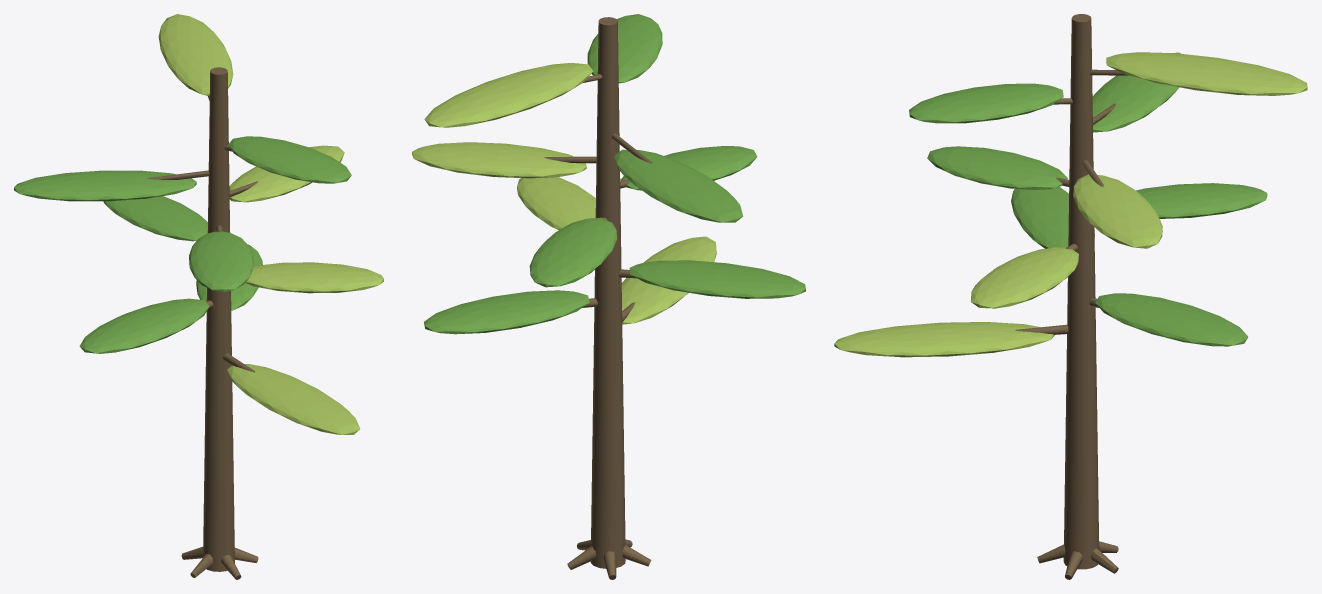
File: tall-prehistoric-palm.glb
The picture shows the model from 3 angles, left to right: view 1: azimuth 30°, elevation 25°; view 2: azimuth 150°, elevation 25°; view 3: azimuth 270°, elevation 25°; orthographic projection. The views are drawn at different scales.
Visible parts, largest first — view 1: trunk, foliage-0, foliage-7, foliage-2, foliage-9, foliage-8, foliage-3, foliage-5, foliage-4, foliage-6, foliage-1; view 2: trunk, foliage-9, foliage-7, foliage-2, foliage-1, foliage-6, foliage-4, foliage-0, foliage-3, foliage-8, foliage-5; view 3: trunk, foliage-0, foliage-9, foliage-1, foliage-8, foliage-6, foliage-3, foliage-5, foliage-4, foliage-7, foliage-2.
Part boxes in pixels (bbox=[...]): trunk: bbox=[203, 67, 234, 571]; foliage-0: bbox=[227, 364, 360, 434]; foliage-7: bbox=[14, 170, 196, 201]; foliage-2: bbox=[79, 298, 209, 353]; foliage-9: bbox=[158, 14, 233, 95]; foliage-8: bbox=[228, 136, 351, 183]; foliage-3: bbox=[246, 262, 383, 293]; foliage-5: bbox=[189, 231, 253, 292]; foliage-4: bbox=[103, 196, 207, 241]; foliage-6: bbox=[229, 145, 344, 202]; foliage-1: bbox=[196, 244, 262, 310]; trunk: bbox=[590, 17, 625, 568]; foliage-9: bbox=[424, 63, 593, 127]; foliage-7: bbox=[614, 149, 743, 222]; foliage-2: bbox=[629, 260, 805, 298]; foliage-1: bbox=[424, 290, 589, 334]; foliage-6: bbox=[412, 142, 586, 178]; foliage-4: bbox=[529, 217, 617, 287]; foliage-0: bbox=[621, 236, 716, 324]; foliage-3: bbox=[517, 177, 595, 229]; foliage-8: bbox=[587, 14, 662, 83]; foliage-5: bbox=[620, 146, 757, 190]; trunk: bbox=[1063, 14, 1099, 569]; foliage-0: bbox=[834, 322, 1054, 357]; foliage-9: bbox=[1106, 52, 1307, 95]; foliage-1: bbox=[1095, 293, 1247, 346]; foliage-8: bbox=[909, 83, 1063, 123]; foliage-6: bbox=[1073, 174, 1162, 248]; foliage-3: bbox=[970, 247, 1078, 308]; foliage-5: bbox=[927, 146, 1067, 189]; foliage-4: bbox=[1136, 183, 1267, 218]; foliage-7: bbox=[1092, 52, 1180, 132]; foliage-2: bbox=[1011, 186, 1094, 248].
Size of the model in its own units: 3.72 by 5.66 by 4.45.
